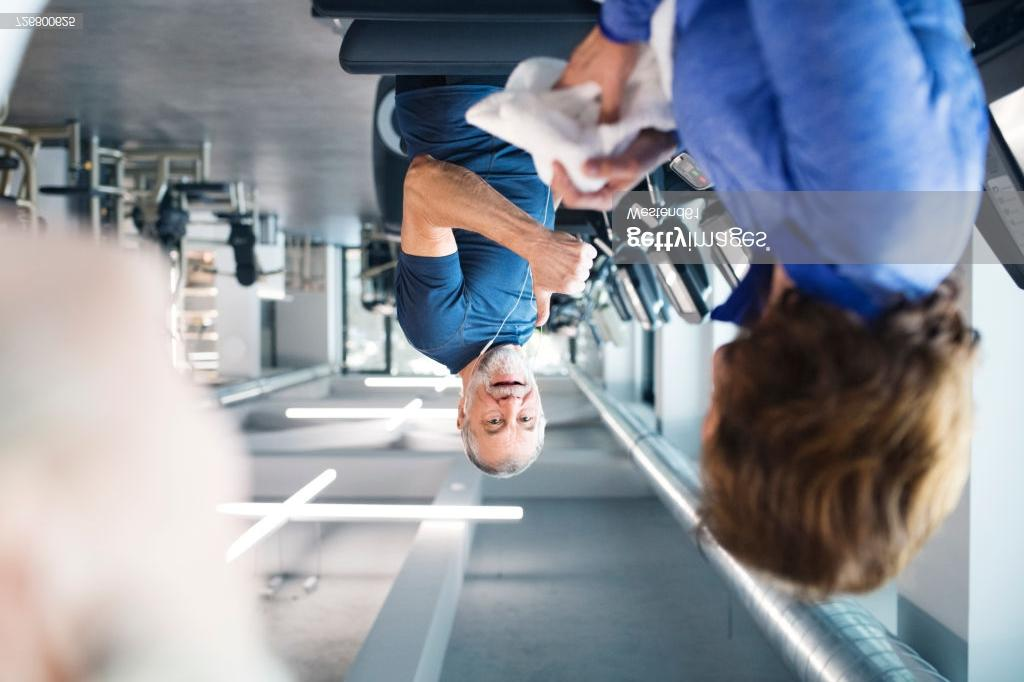thumbsdown: (534, 244, 597, 327)
